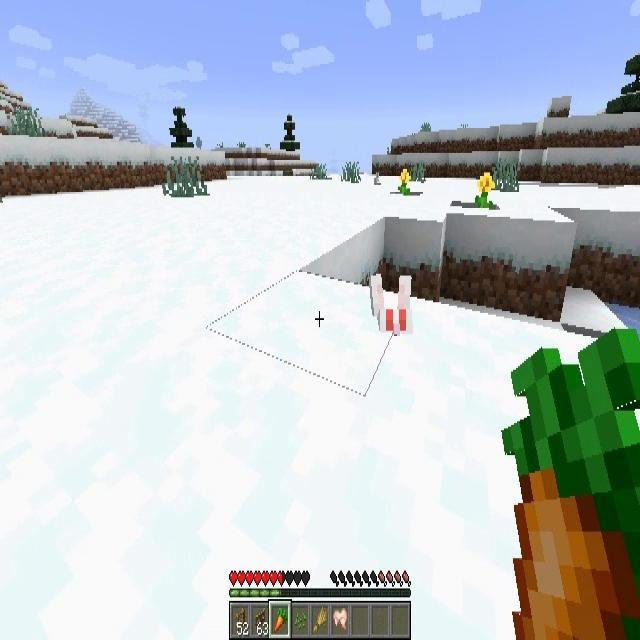flower: (475, 173, 494, 208), (398, 169, 410, 195)
rabbit: (368, 272, 414, 336)
